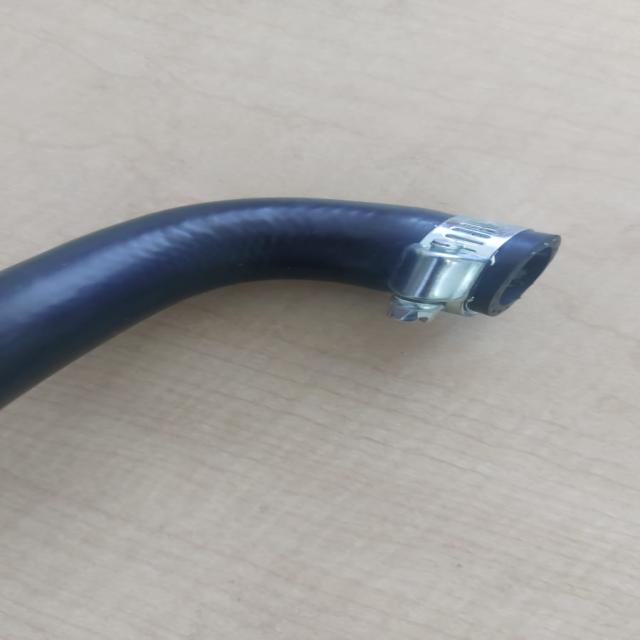clamp: (350, 210, 544, 334)
pipe: (450, 232, 556, 321)
